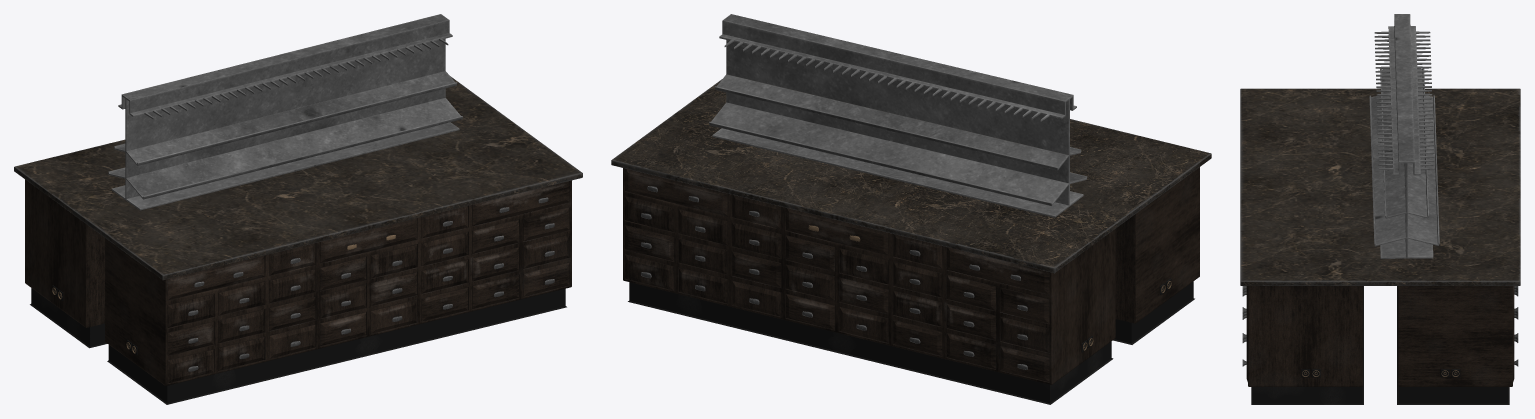
Rendered from the_lab_desk_-_dyad_arkana.glb.
3 renders of one model, left to right at view 1: azimuth 30°, elevation 25°; view 2: azimuth 150°, elevation 25°; view 3: azimuth 270°, elevation 25°, orthographic. The views are drawn at different scales.
Parts seen in each view (by area): view 1: TableBase, Tabletop, Shelf, TableBase.001, Handles; view 2: TableBase.001, Shelf, Tabletop, TableBase, Handles.001; view 3: Tabletop, Shelf, TableBase, TableBase.001.
Part boxes in pixels (left/top/right/bottom): TableBase: left=105, top=180, right=571, bottom=404; Tabletop: left=14, top=76, right=582, bottom=279; Shelf: left=108, top=14, right=462, bottom=210; TableBase.001: left=25, top=179, right=107, bottom=348; Handles: left=188, top=197, right=554, bottom=371; TableBase.001: left=623, top=168, right=1115, bottom=404; Shelf: left=709, top=14, right=1087, bottom=217; Tabletop: left=611, top=79, right=1211, bottom=273; TableBase: left=1113, top=167, right=1199, bottom=344; Handles.001: left=641, top=186, right=1027, bottom=369; Tabletop: left=1240, top=88, right=1520, bottom=285; Shelf: left=1369, top=14, right=1439, bottom=258; TableBase: left=1246, top=286, right=1363, bottom=404; TableBase.001: left=1397, top=286, right=1514, bottom=404.
Size of the model in its own units: 2.59 by 1.41 by 1.59.
Materials: 2 (2 with a texture image).
